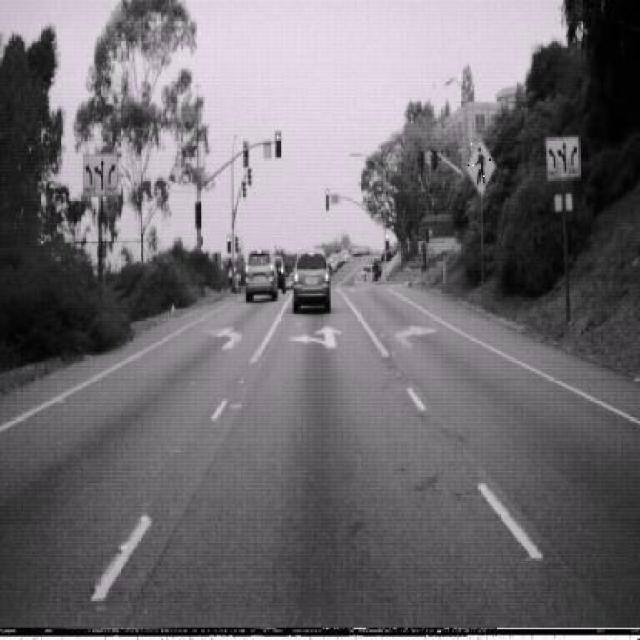pedestrianCrossing: (464, 136, 496, 197)
